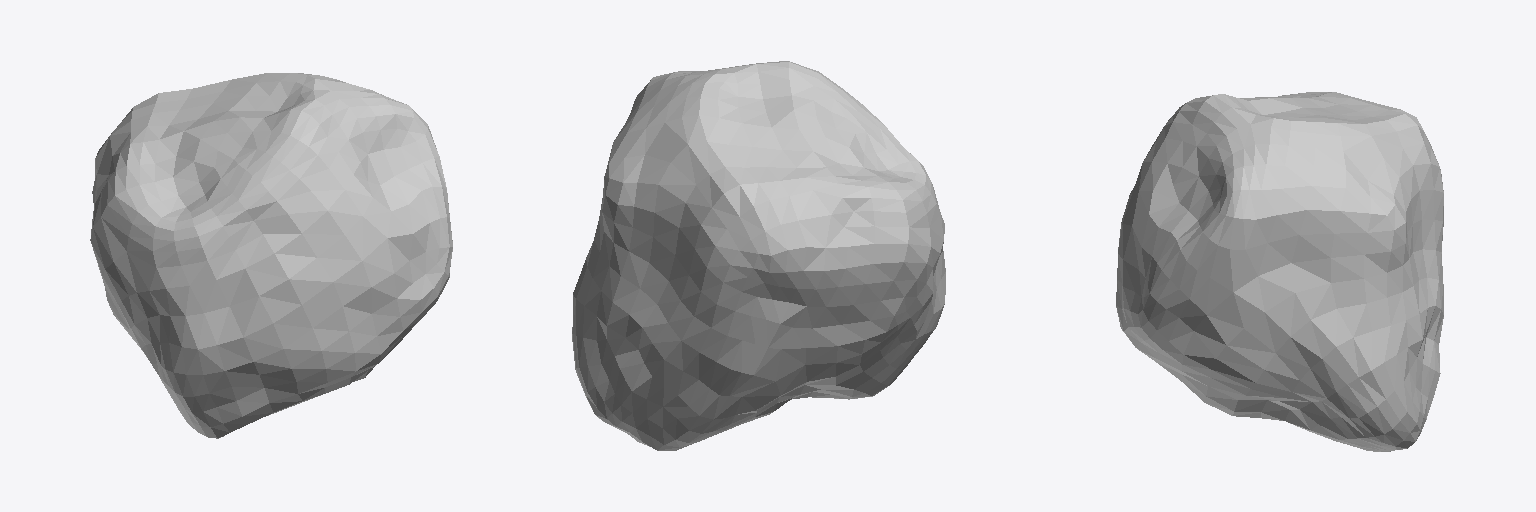
File: asteroide2.obj
3 views of the same model, side by side, from view 1: azimuth 30°, elevation 25°; view 2: azimuth 150°, elevation 25°; view 3: azimuth 270°, elevation 25° (orthographic).
Visible parts, largest first — view 1: Asteroid_no_2; view 2: Asteroid_no_2; view 3: Asteroid_no_2.
Part boxes in pixels (x1,y1,x2,y2): Asteroid_no_2: (90, 73, 452, 438); Asteroid_no_2: (572, 61, 945, 450); Asteroid_no_2: (1116, 92, 1443, 451).
Bounding box in the file's own units: 5.75 × 5.91 × 5.27.